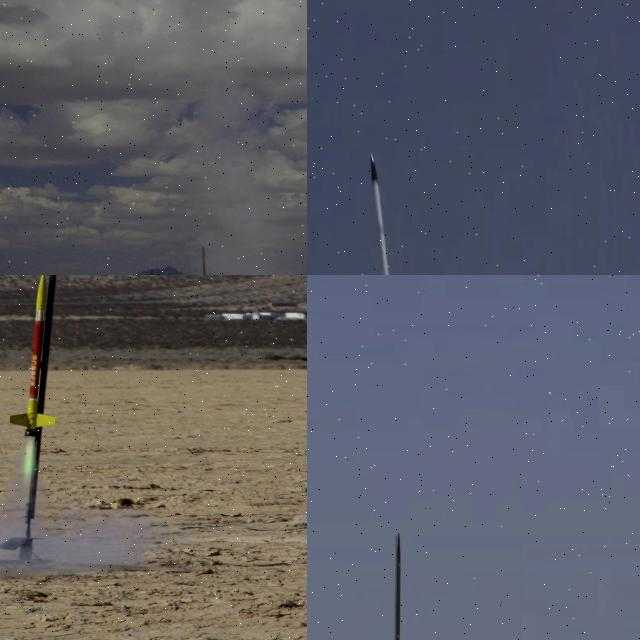Rocket: (8, 275, 57, 432), (370, 154, 400, 275), (390, 533, 404, 640)
